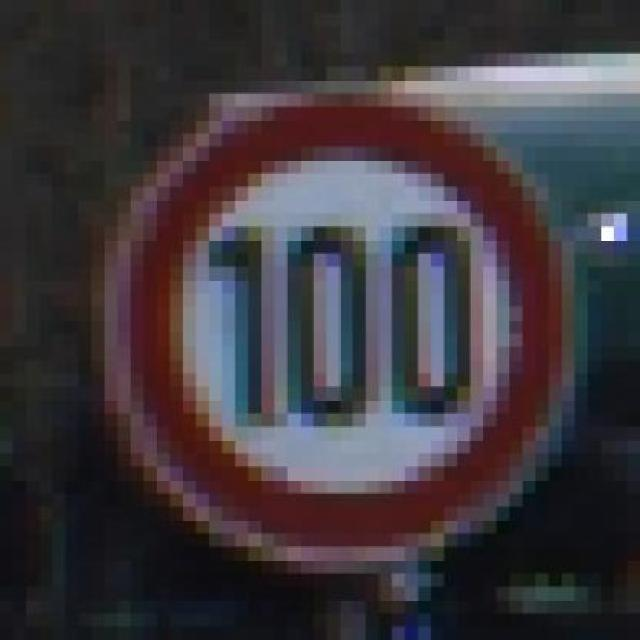forb_speed_over_100: (125, 99, 572, 564)
